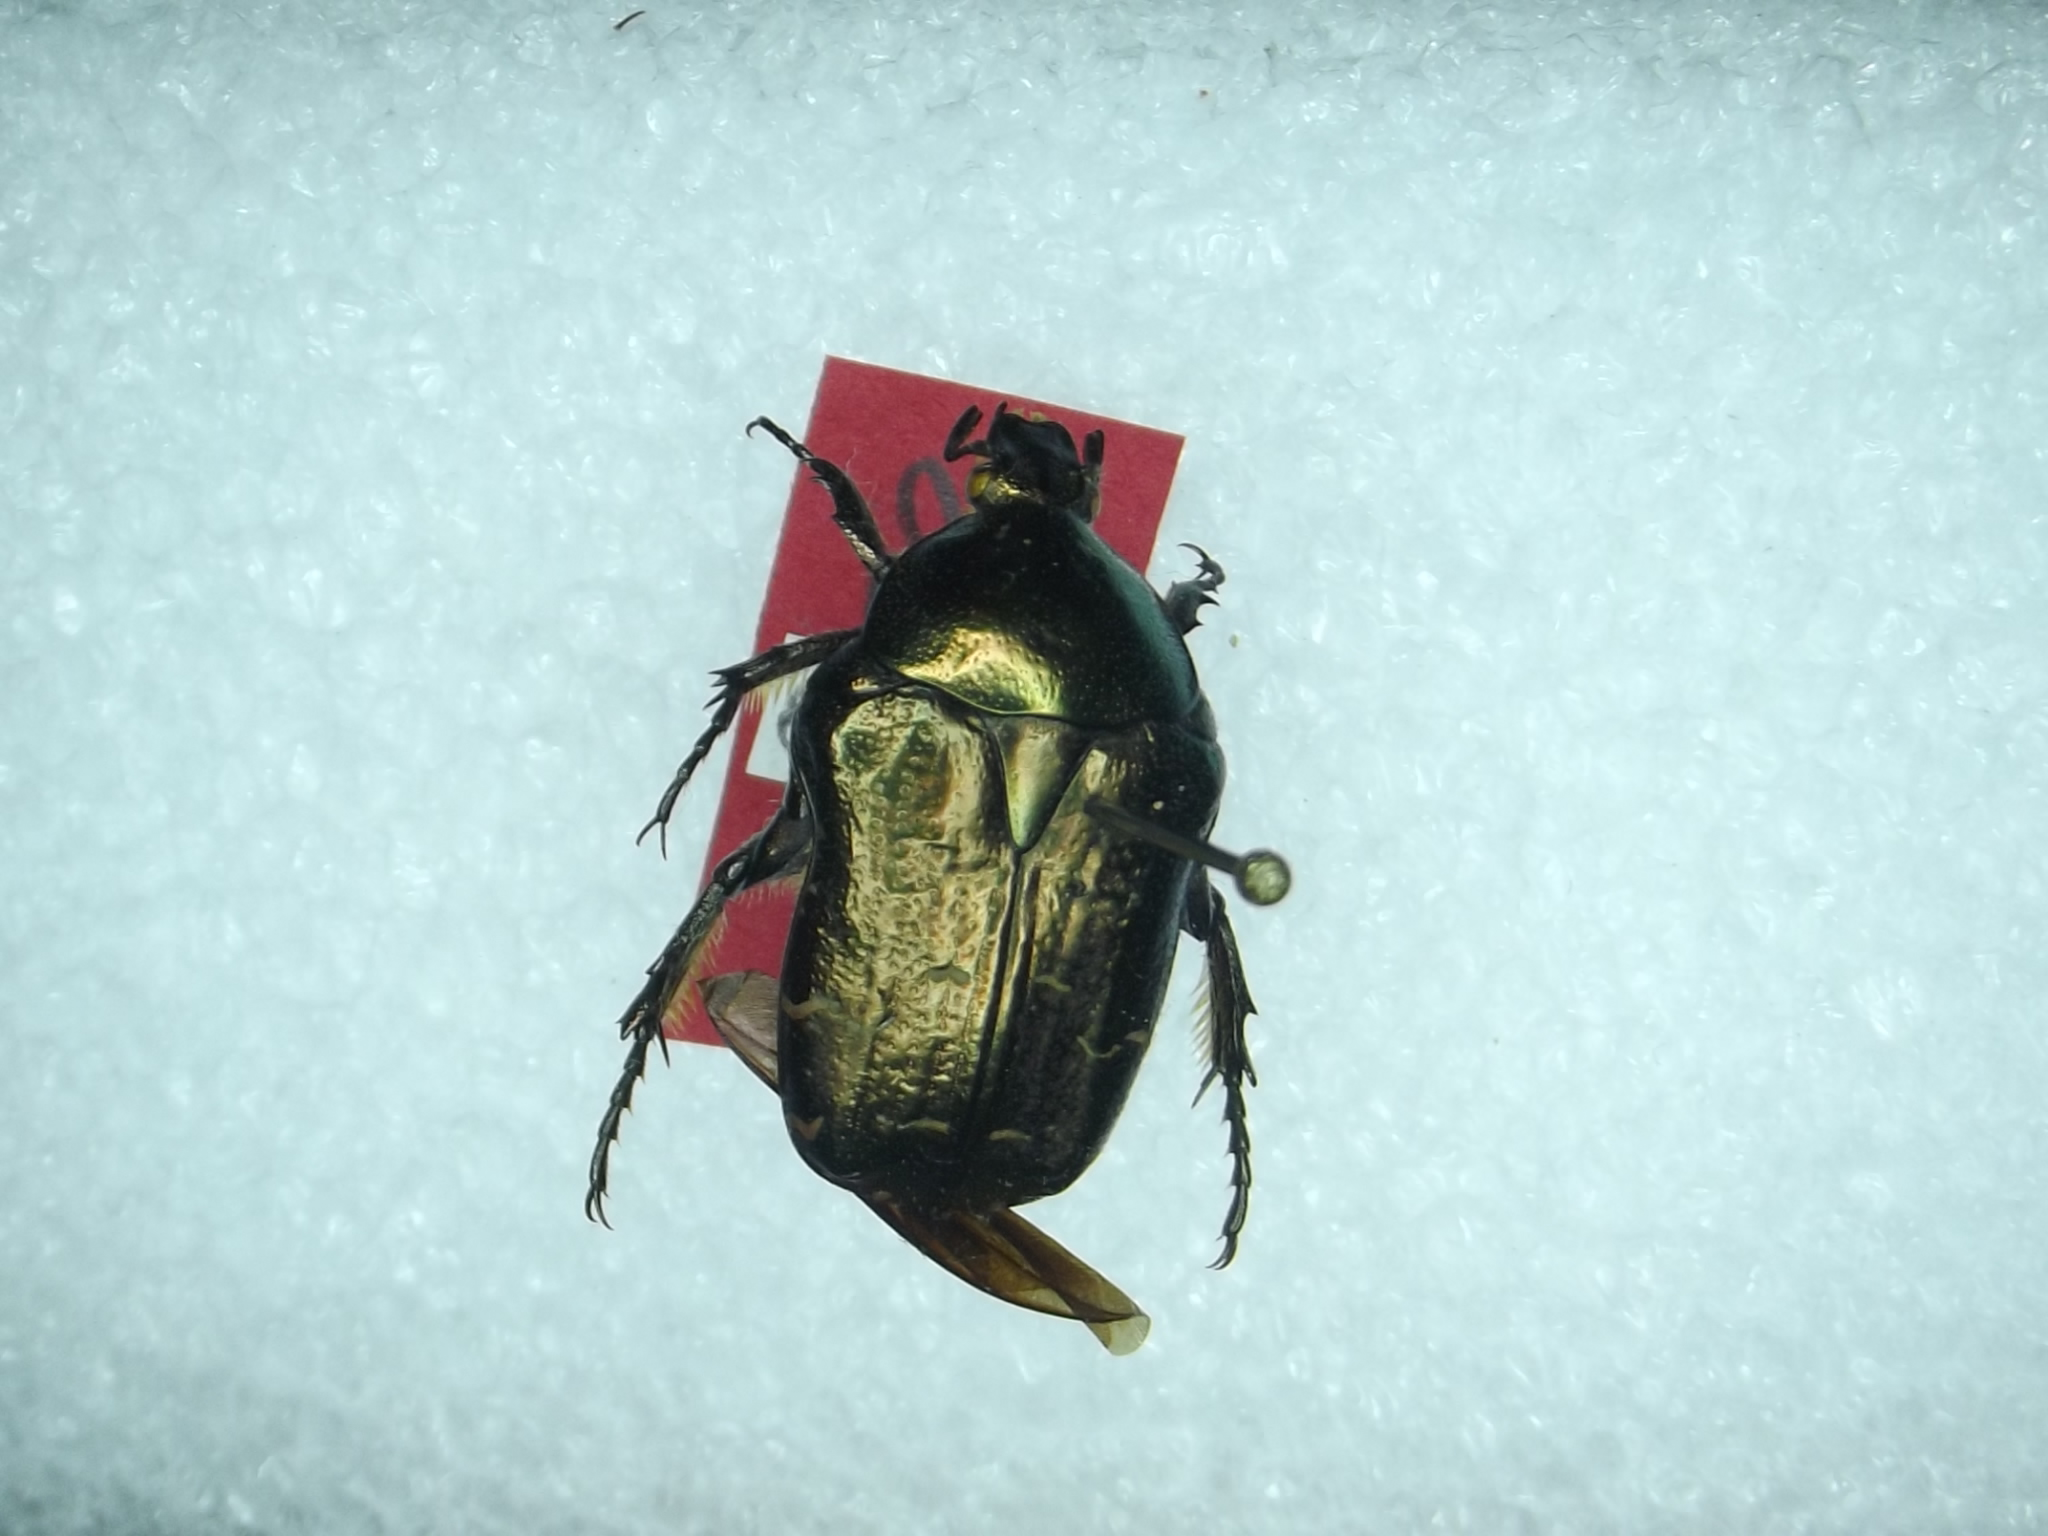Cetonia_kemali: (572, 334, 1279, 1346)
